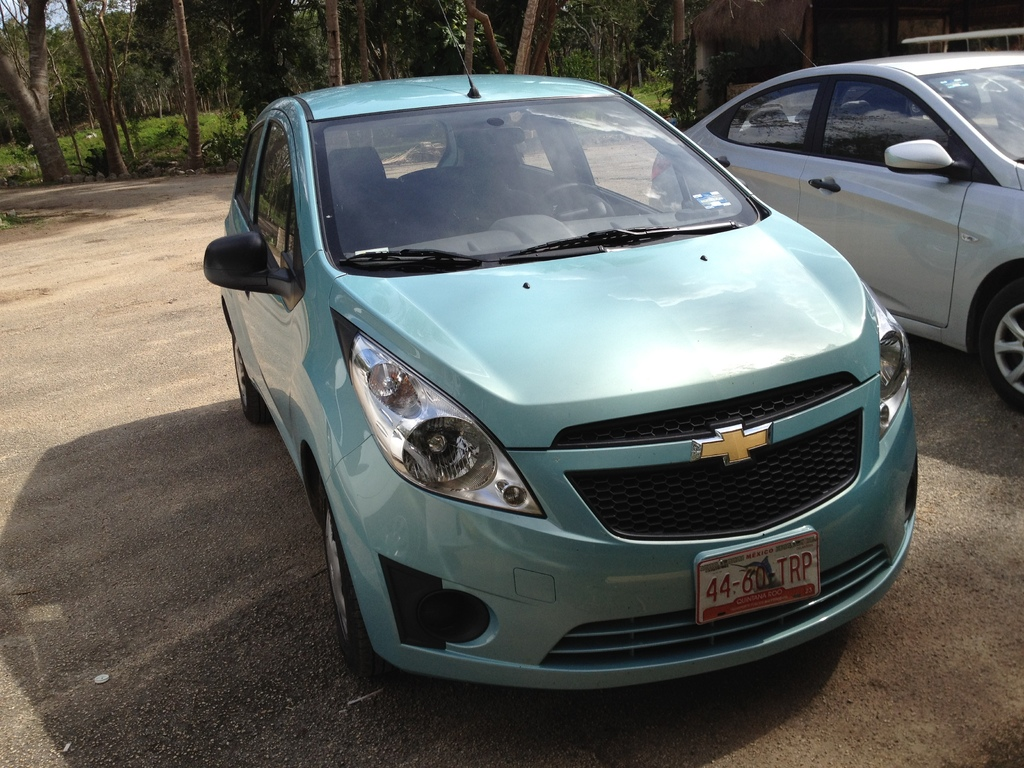Car: (203, 66, 922, 685), (648, 45, 1023, 405)
